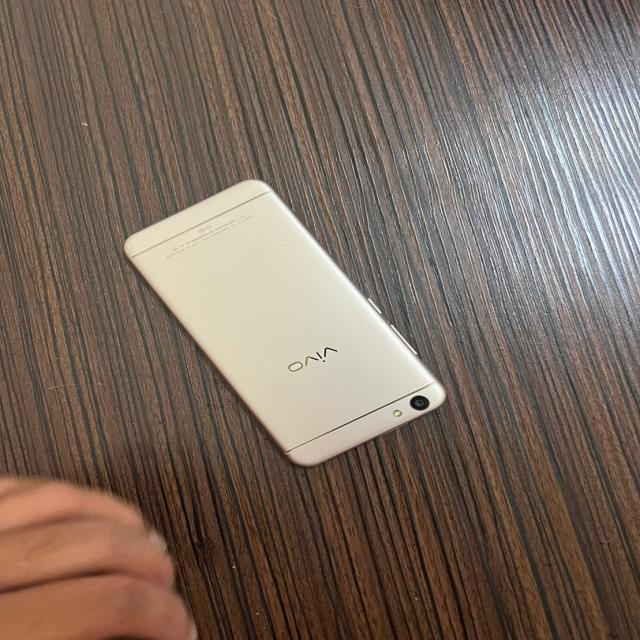Smartphone: (108, 166, 471, 500)
